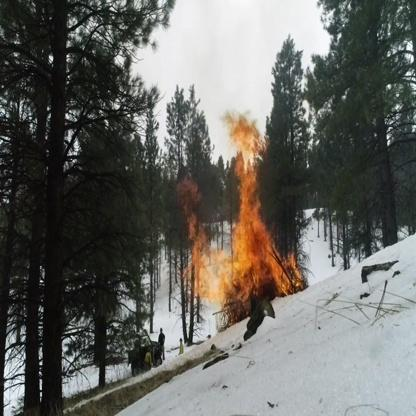Fire: (176, 109, 309, 325)
